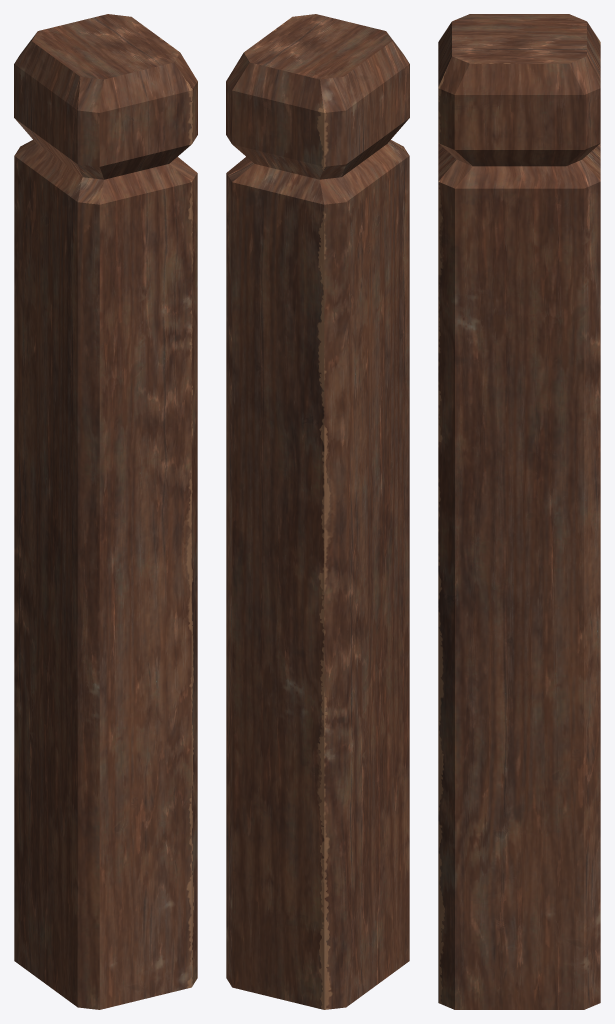
File: Kit_LadderPlank.fbx
3 renders of one model, left to right at view 1: azimuth 30°, elevation 25°; view 2: azimuth 150°, elevation 25°; view 3: azimuth 270°, elevation 25°, orthographic.
Visible parts, largest first — view 1: Kit_LadderPlank; view 2: Kit_LadderPlank; view 3: Kit_LadderPlank.
Part boxes in pixels (x1,y1,x2,y2): Kit_LadderPlank: (14,14,197,1009); Kit_LadderPlank: (226,14,409,1009); Kit_LadderPlank: (438,14,600,1009).
Size of the model in its own units: 7.45 by 54.71 by 8.56.
